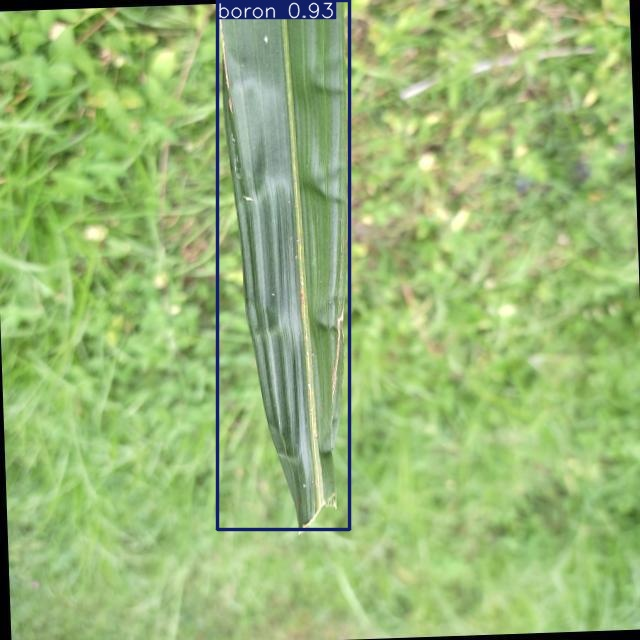nitrogen: (218, 1, 349, 529)
